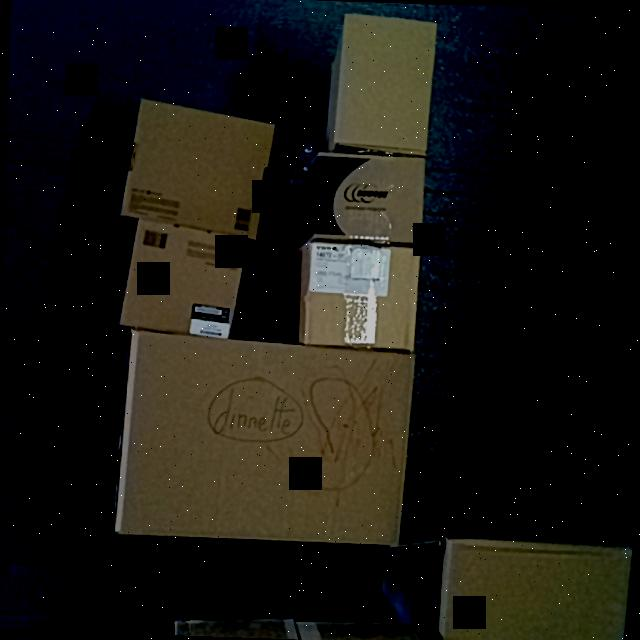box: (123, 339, 409, 545), (441, 538, 632, 640), (126, 111, 268, 228), (340, 14, 437, 154), (125, 226, 243, 339), (301, 242, 418, 352), (312, 150, 425, 246), (173, 616, 420, 640)
